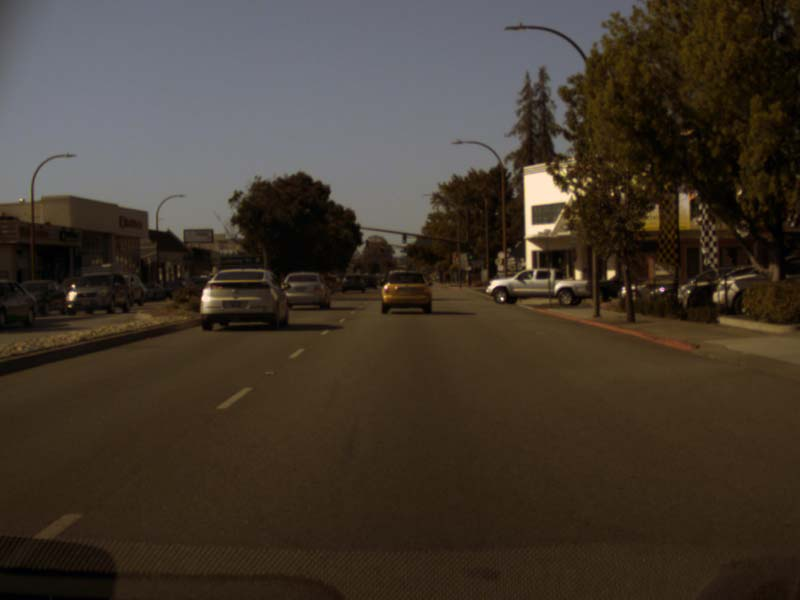Green: (467, 254, 472, 265), (402, 233, 406, 243)
Red: (379, 244, 383, 252)
